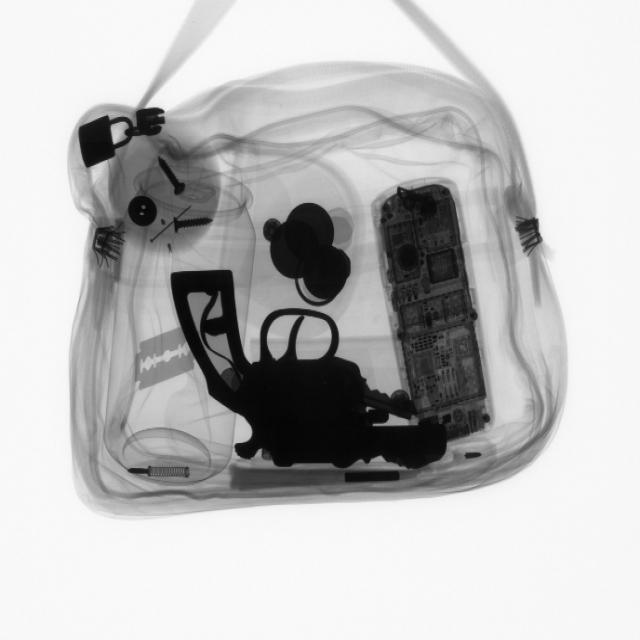BLADE: (130, 326, 196, 394)
GUN: (178, 261, 446, 470)
SCREW: (151, 147, 193, 203), (163, 207, 220, 243)
